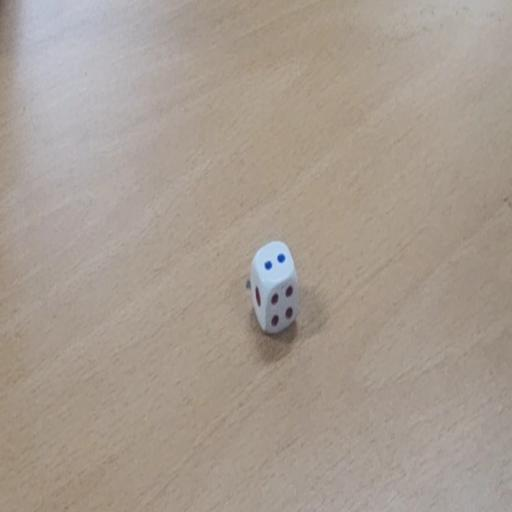dice_2: (250, 240, 300, 336)
